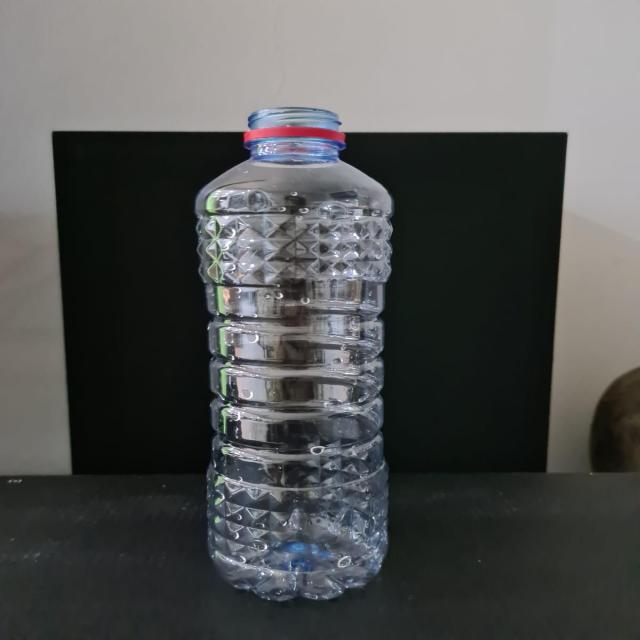bottle: (198, 103, 422, 606)
